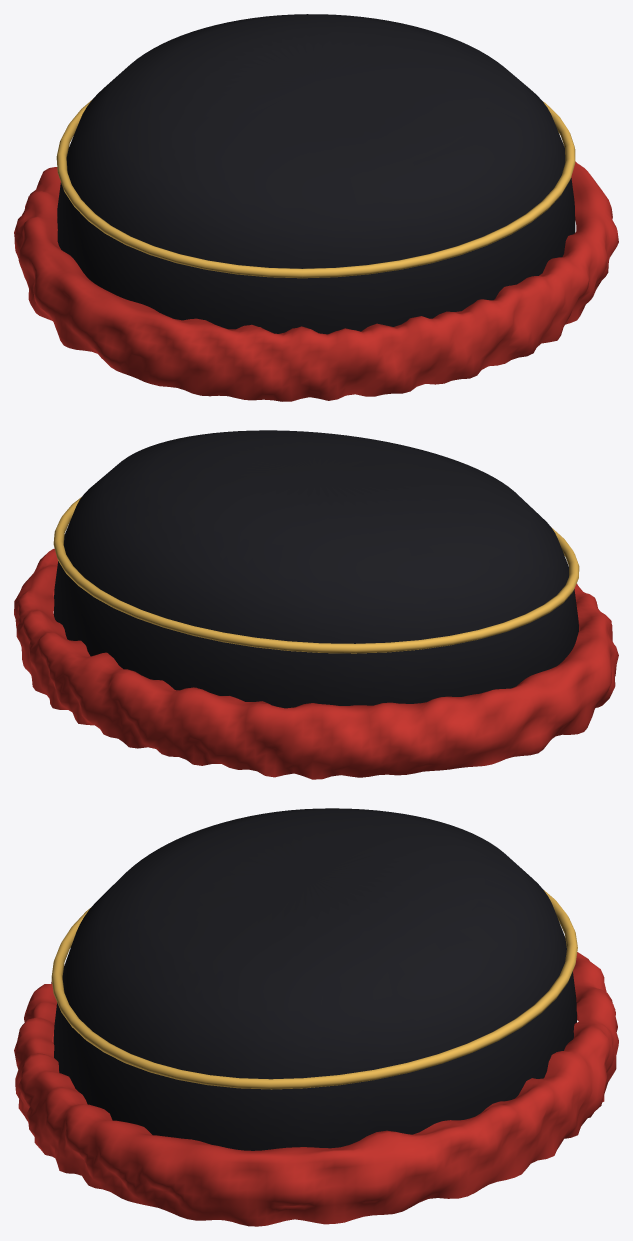
Rendered from hw_borik.glb.
The picture shows the model from 3 angles, top to bottom: view 1: azimuth 30°, elevation 25°; view 2: azimuth 150°, elevation 25°; view 3: azimuth 270°, elevation 25°; orthographic projection. The views are drawn at different scales.
Visible parts, largest first — view 1: hw_borik, hw_borik_fur, hw_borik_gold; view 2: hw_borik, hw_borik_fur, hw_borik_gold; view 3: hw_borik, hw_borik_fur, hw_borik_gold.
Part boxes in pixels (x1,y1,x2,y2): hw_borik: [57, 14, 575, 334]; hw_borik_fur: [14, 161, 618, 401]; hw_borik_gold: [56, 99, 575, 278]; hw_borik: [53, 430, 578, 708]; hw_borik_fur: [14, 548, 618, 779]; hw_borik_gold: [53, 497, 579, 653]; hw_borik: [53, 808, 576, 1150]; hw_borik_fur: [14, 952, 618, 1226]; hw_borik_gold: [51, 890, 577, 1089].
Size of the model in its own units: 0.9803 by 0.3794 by 0.8774.
